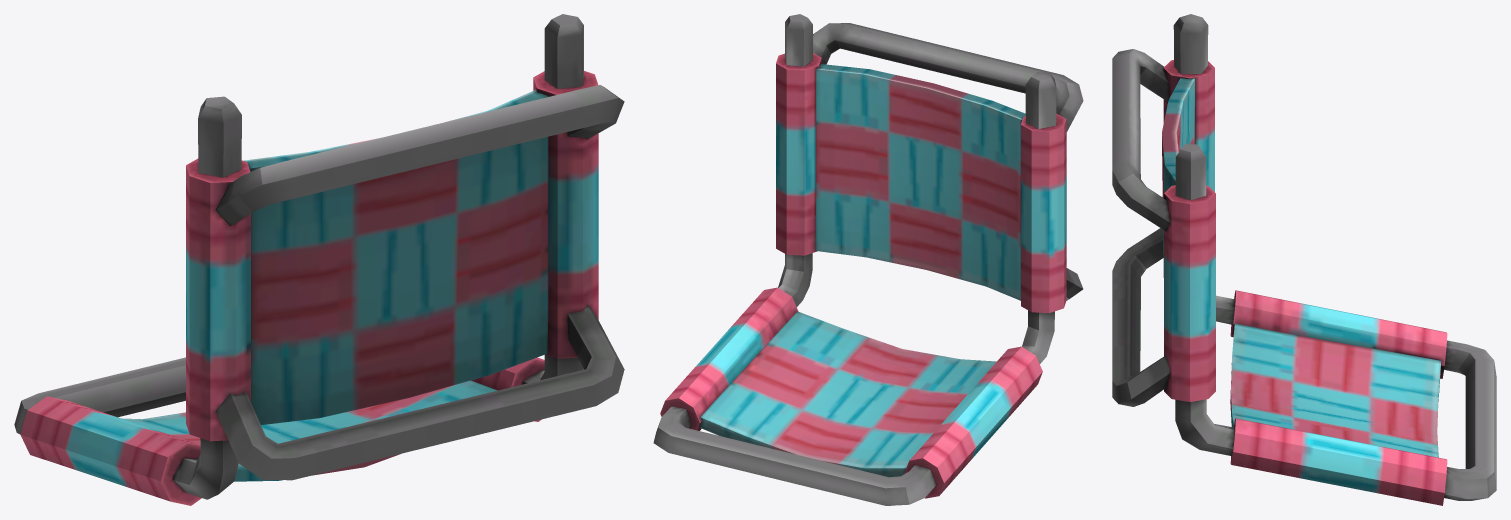
The model's file is BeachChair.fbx.
The picture shows the model from 3 angles, left to right: view 1: azimuth 30°, elevation 25°; view 2: azimuth 150°, elevation 25°; view 3: azimuth 270°, elevation 25°; orthographic projection. The views are drawn at different scales.
Visible parts, largest first — view 1: BeachChair; view 2: BeachChair; view 3: BeachChair.
Part boxes in pixels (box(x1,y1,x2,y2)): BeachChair: box(14, 14, 624, 505); BeachChair: box(653, 14, 1083, 505); BeachChair: box(1112, 14, 1496, 505).
Size of the model in its own units: 82.58 by 93.52 by 90.15.
